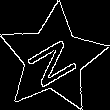N_NE: (22, 29, 84, 89)
